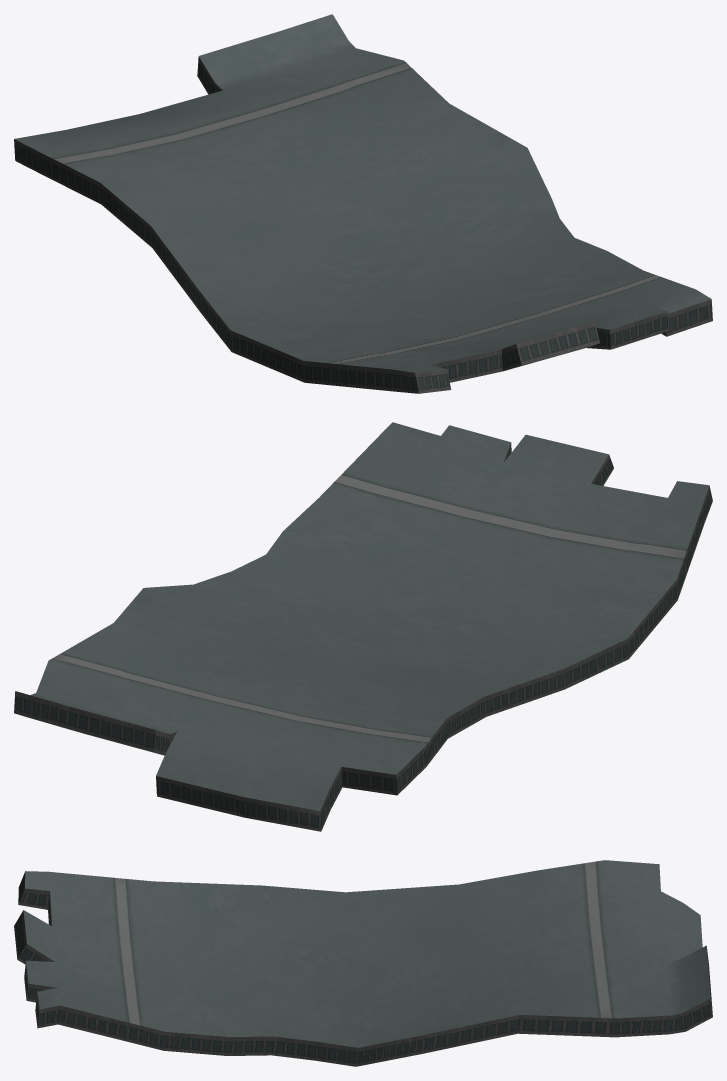
File: mdlCLRippedPanel.fbx
The picture shows the model from 3 angles, top to bottom: view 1: azimuth 30°, elevation 25°; view 2: azimuth 150°, elevation 25°; view 3: azimuth 270°, elevation 25°; orthographic projection. The views are drawn at different scales.
Visible parts, largest first — view 1: RippedPanel; view 2: RippedPanel; view 3: RippedPanel.
Part boxes in pixels (x1,y1,x2,y2): RippedPanel: (14,14,712,393); RippedPanel: (14,422,712,831); RippedPanel: (14,860,712,1066).
Bounding box in the file's own units: 2130 × 406 × 3723.
